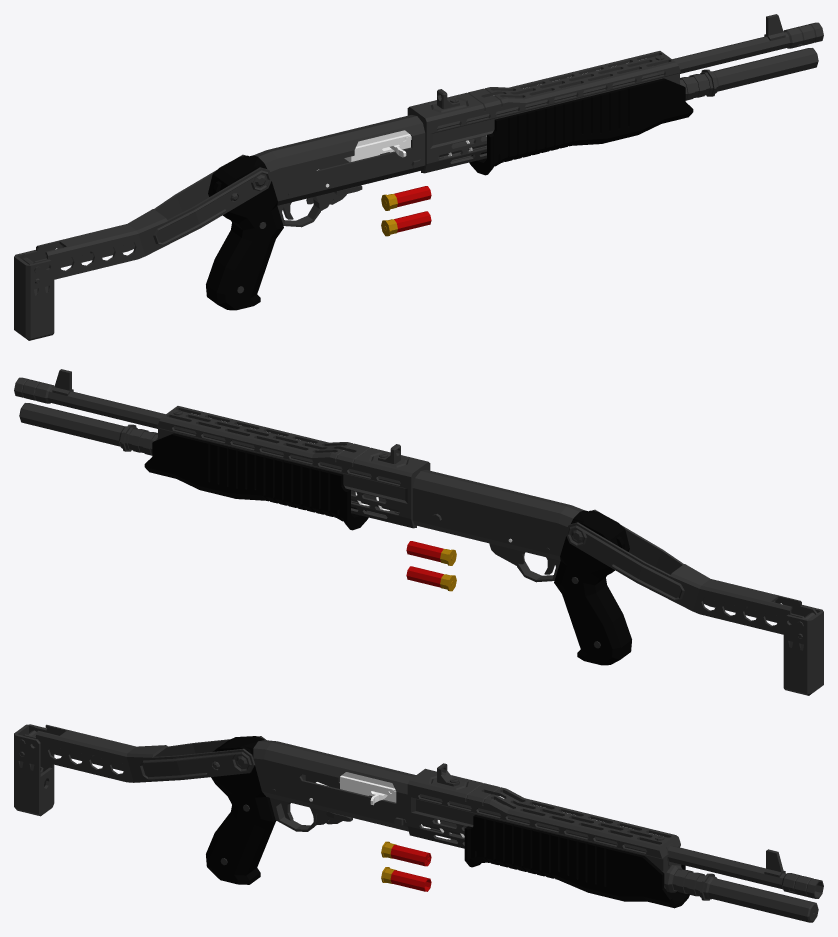
The model's file is franchi_spas_12.glb.
3 renders of one model, top to bottom at view 1: azimuth 30°, elevation 25°; view 2: azimuth 150°, elevation 25°; view 3: azimuth 330°, elevation 25°, orthographic.
Parts seen in each view (by area): view 1: gun_3, pomp_5, stock_12, stock2_11, bolt_9, case_1, 12/70_0, muzzle_2; view 2: gun_3, pomp_5, stock_12, stock2_11, case_1, 12/70_0, muzzle_2; view 3: gun_3, pomp_5, stock_12, stock2_11, bolt_9, muzzle_2, 12/70_0, case_1.
Part boxes in pixels (x1,y1,x2,y2): gun_3: [206, 14, 818, 310]; pomp_5: [469, 78, 693, 175]; stock_12: [20, 154, 272, 283]; stock2_11: [14, 250, 54, 340]; bolt_9: [344, 130, 411, 162]; case_1: [381, 211, 431, 236]; 12/70_0: [381, 186, 431, 210]; muzzle_2: [783, 22, 823, 48]; gun_3: [19, 369, 631, 665]; pomp_5: [144, 433, 368, 530]; stock_12: [565, 509, 817, 638]; stock2_11: [783, 605, 823, 695]; case_1: [406, 566, 456, 591]; 12/70_0: [406, 541, 456, 565]; muzzle_2: [14, 377, 54, 403]; gun_3: [206, 736, 818, 922]; pomp_5: [464, 815, 689, 908]; stock_12: [20, 724, 266, 782]; stock2_11: [14, 724, 54, 816]; bolt_9: [339, 772, 396, 805]; muzzle_2: [782, 873, 823, 898]; 12/70_0: [381, 841, 431, 866]; case_1: [381, 867, 431, 891].
Size of the model in its own units: 1.32 by 0.2537 by 0.0842.
